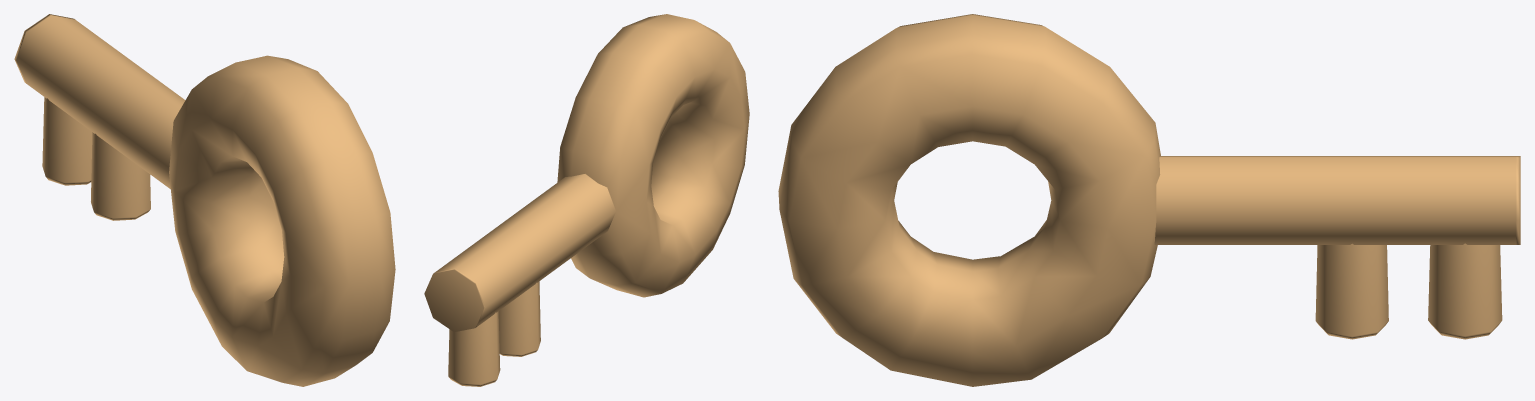
File: key.fbx
The picture shows the model from 3 angles, left to right: view 1: azimuth 30°, elevation 25°; view 2: azimuth 150°, elevation 25°; view 3: azimuth 270°, elevation 25°; orthographic projection. The views are drawn at different scales.
Parts seen in each view (by area): view 1: key; view 2: key; view 3: key.
Boxes of the visible parts, x1=… form: key: x1=14, y1=14, x2=395, y2=386; key: x1=424, y1=14, x2=749, y2=386; key: x1=778, y1=14, x2=1520, y2=386.
Size of the model in its own units: 6.07 by 17.39 by 33.21.
